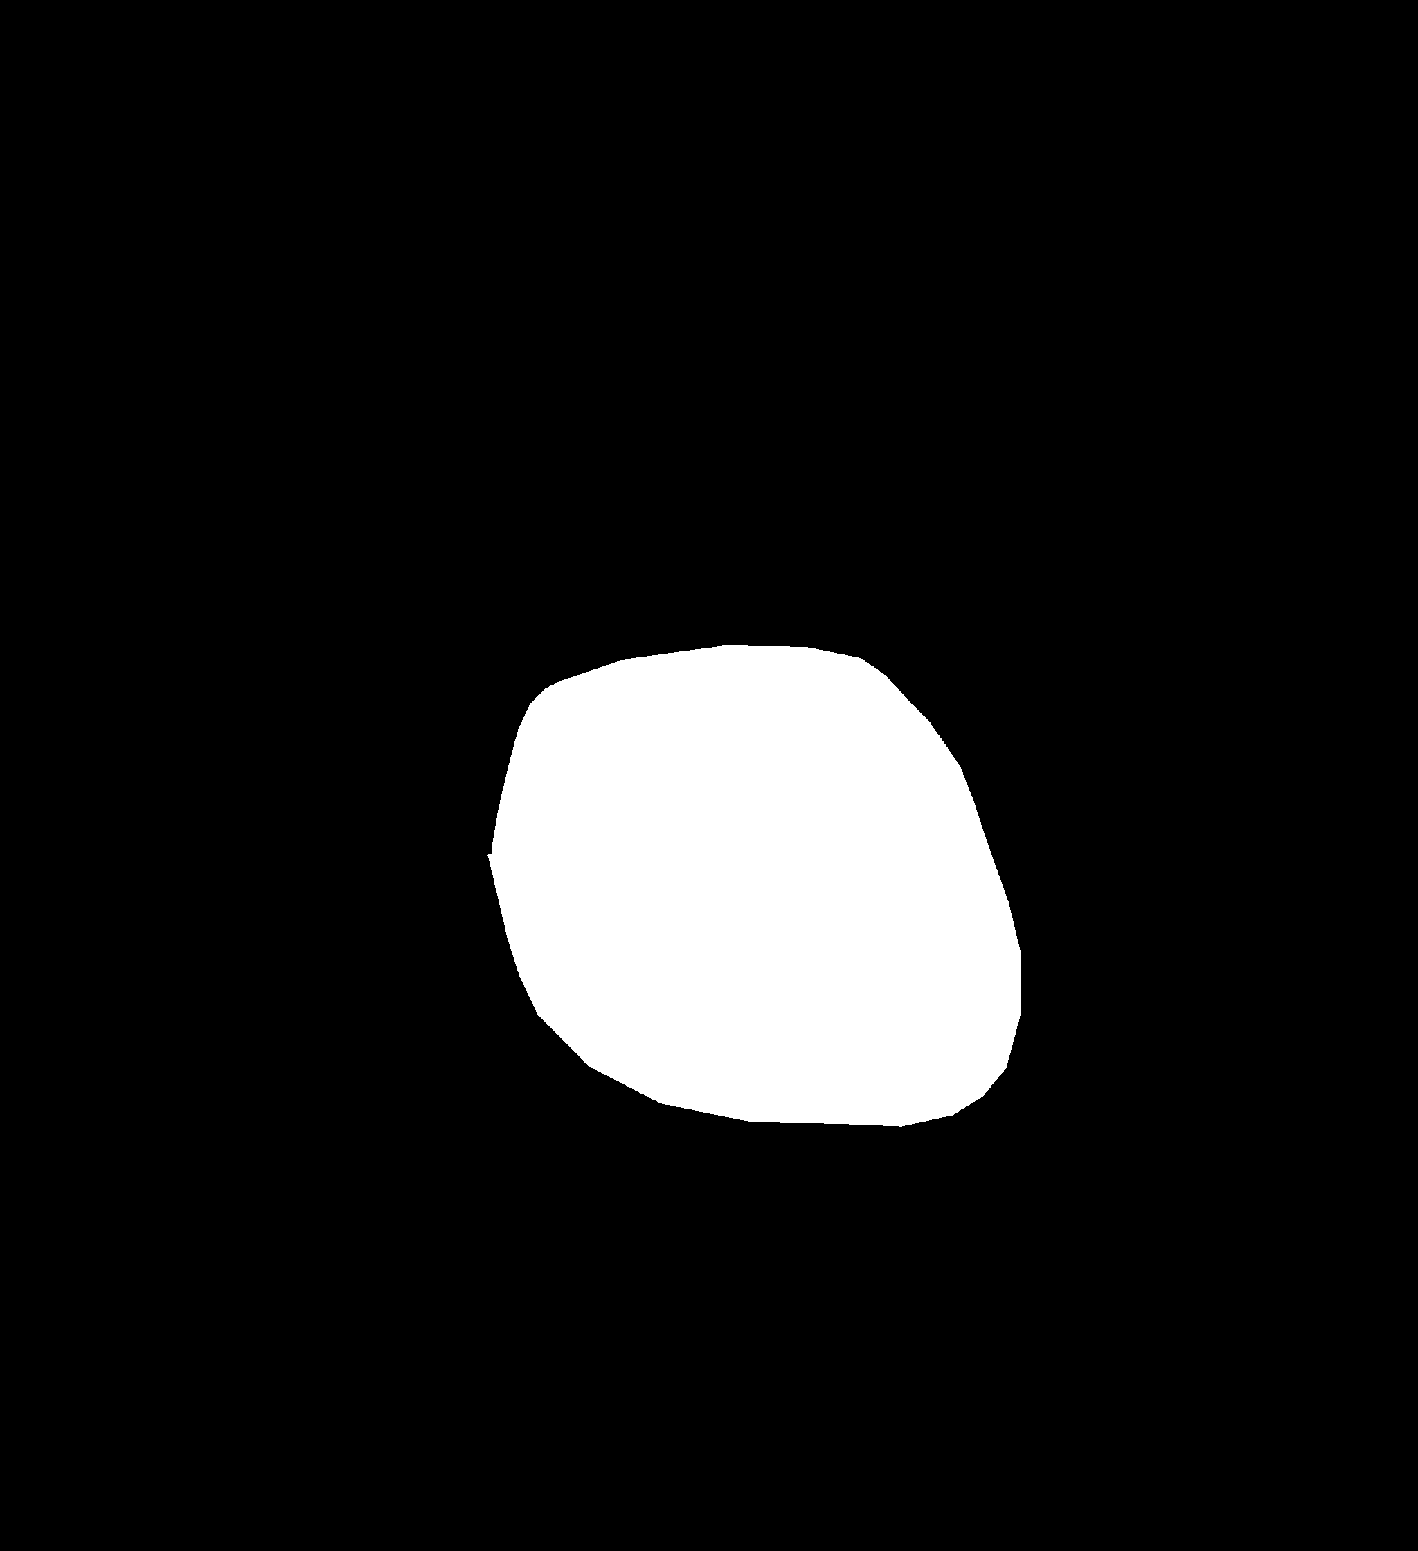heart: (488, 728, 1021, 1163)
left_lung: (176, 257, 585, 1097)
right_lung: (767, 251, 1217, 1211)
